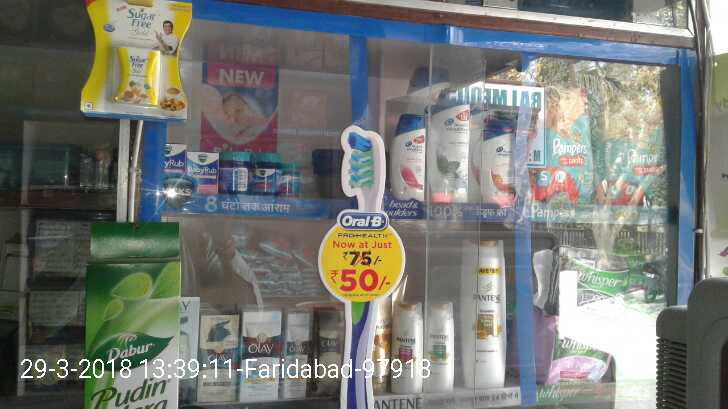vicks: (252, 151, 278, 196), (223, 150, 250, 193), (190, 153, 217, 193), (164, 143, 188, 176), (278, 164, 298, 196)
